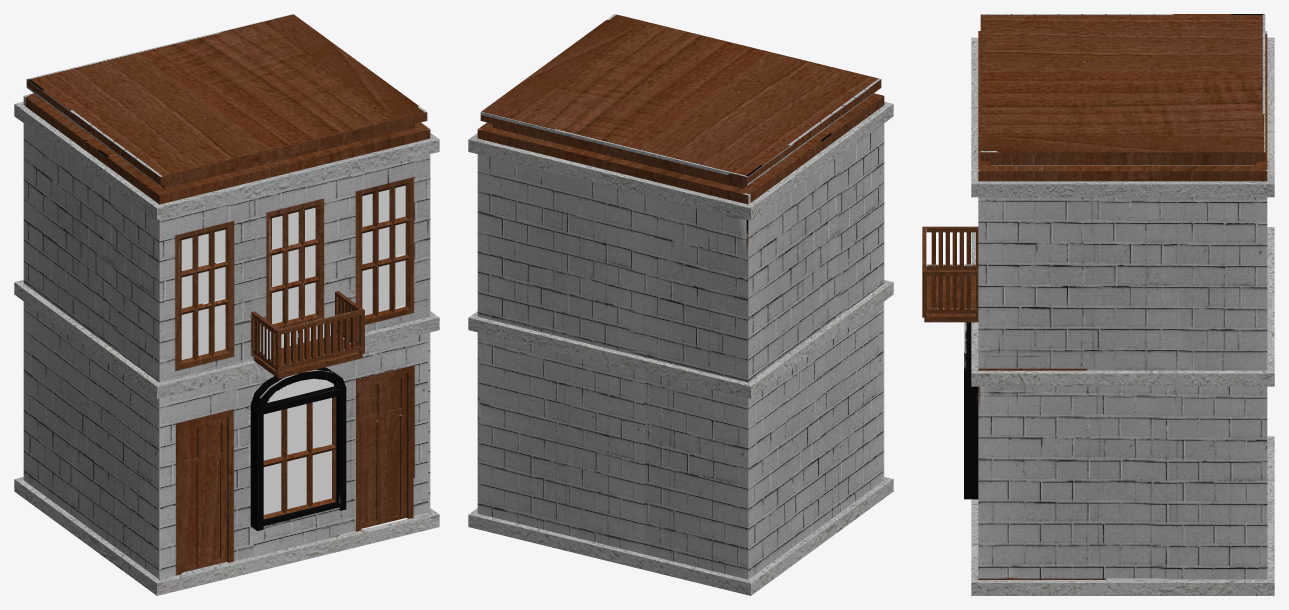
File: Edficio03fbx.fbx
3 renders of one model, left to right at view 1: azimuth 30°, elevation 25°; view 2: azimuth 150°, elevation 25°; view 3: azimuth 270°, elevation 25°, orthographic. The views are drawn at different scales.
Visible parts, largest first — view 1: building_006; view 2: building_006; view 3: building_006.
Part boxes in pixels (bbox=[...]): building_006: bbox=[14, 14, 439, 595]; building_006: bbox=[468, 14, 893, 595]; building_006: bbox=[922, 14, 1274, 595].
Bounding box in the file's own units: 480 × 671 × 488.
